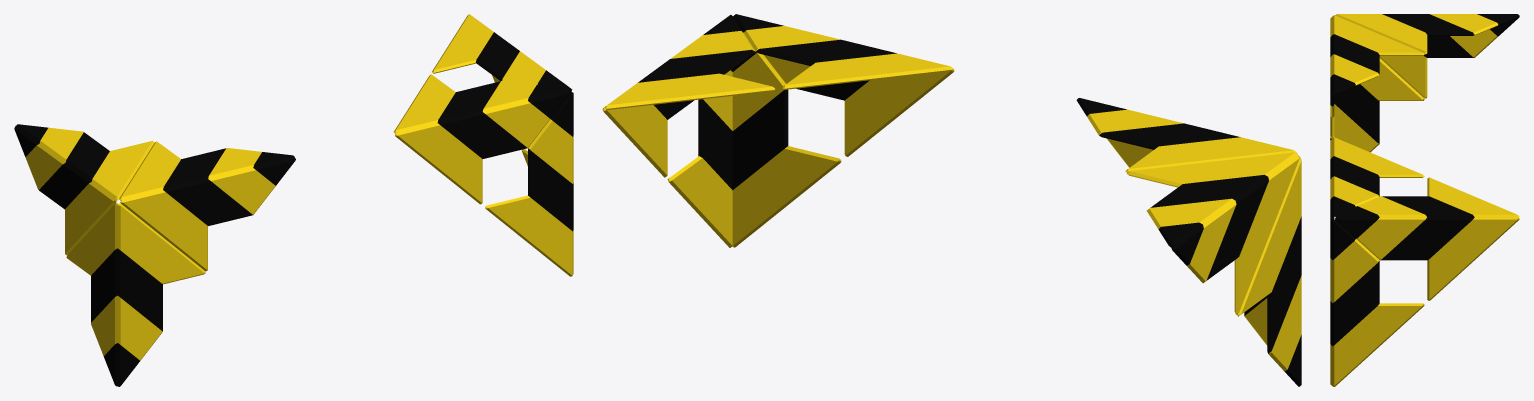
The picture shows the model from 3 angles, left to right: view 1: azimuth 30°, elevation 25°; view 2: azimuth 150°, elevation 25°; view 3: azimuth 270°, elevation 25°; orthographic projection. The views are drawn at different scales.
Parts seen in each view (by area): view 1: corner arrows (×34); view 2: corner arrows (×31); view 3: corner arrows (×31).
Boxes of the visible parts, box(x1,y1,x2,y2) form: corner arrows (×34): box(25, 14, 572, 386); corner arrows (×31): box(602, 26, 1301, 371); corner arrows (×31): box(1332, 14, 1519, 386).
Size of the model in its own units: 20 by 7.84 by 7.84.
